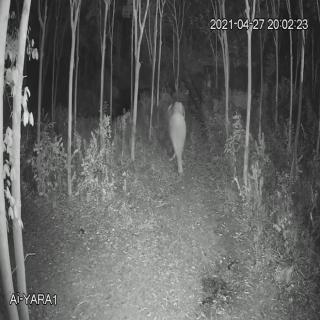Elephant: (164, 93, 192, 179)
